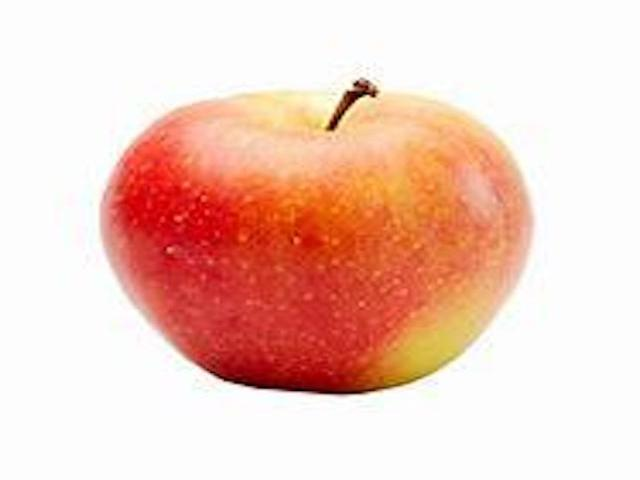apple: (86, 72, 541, 400)
